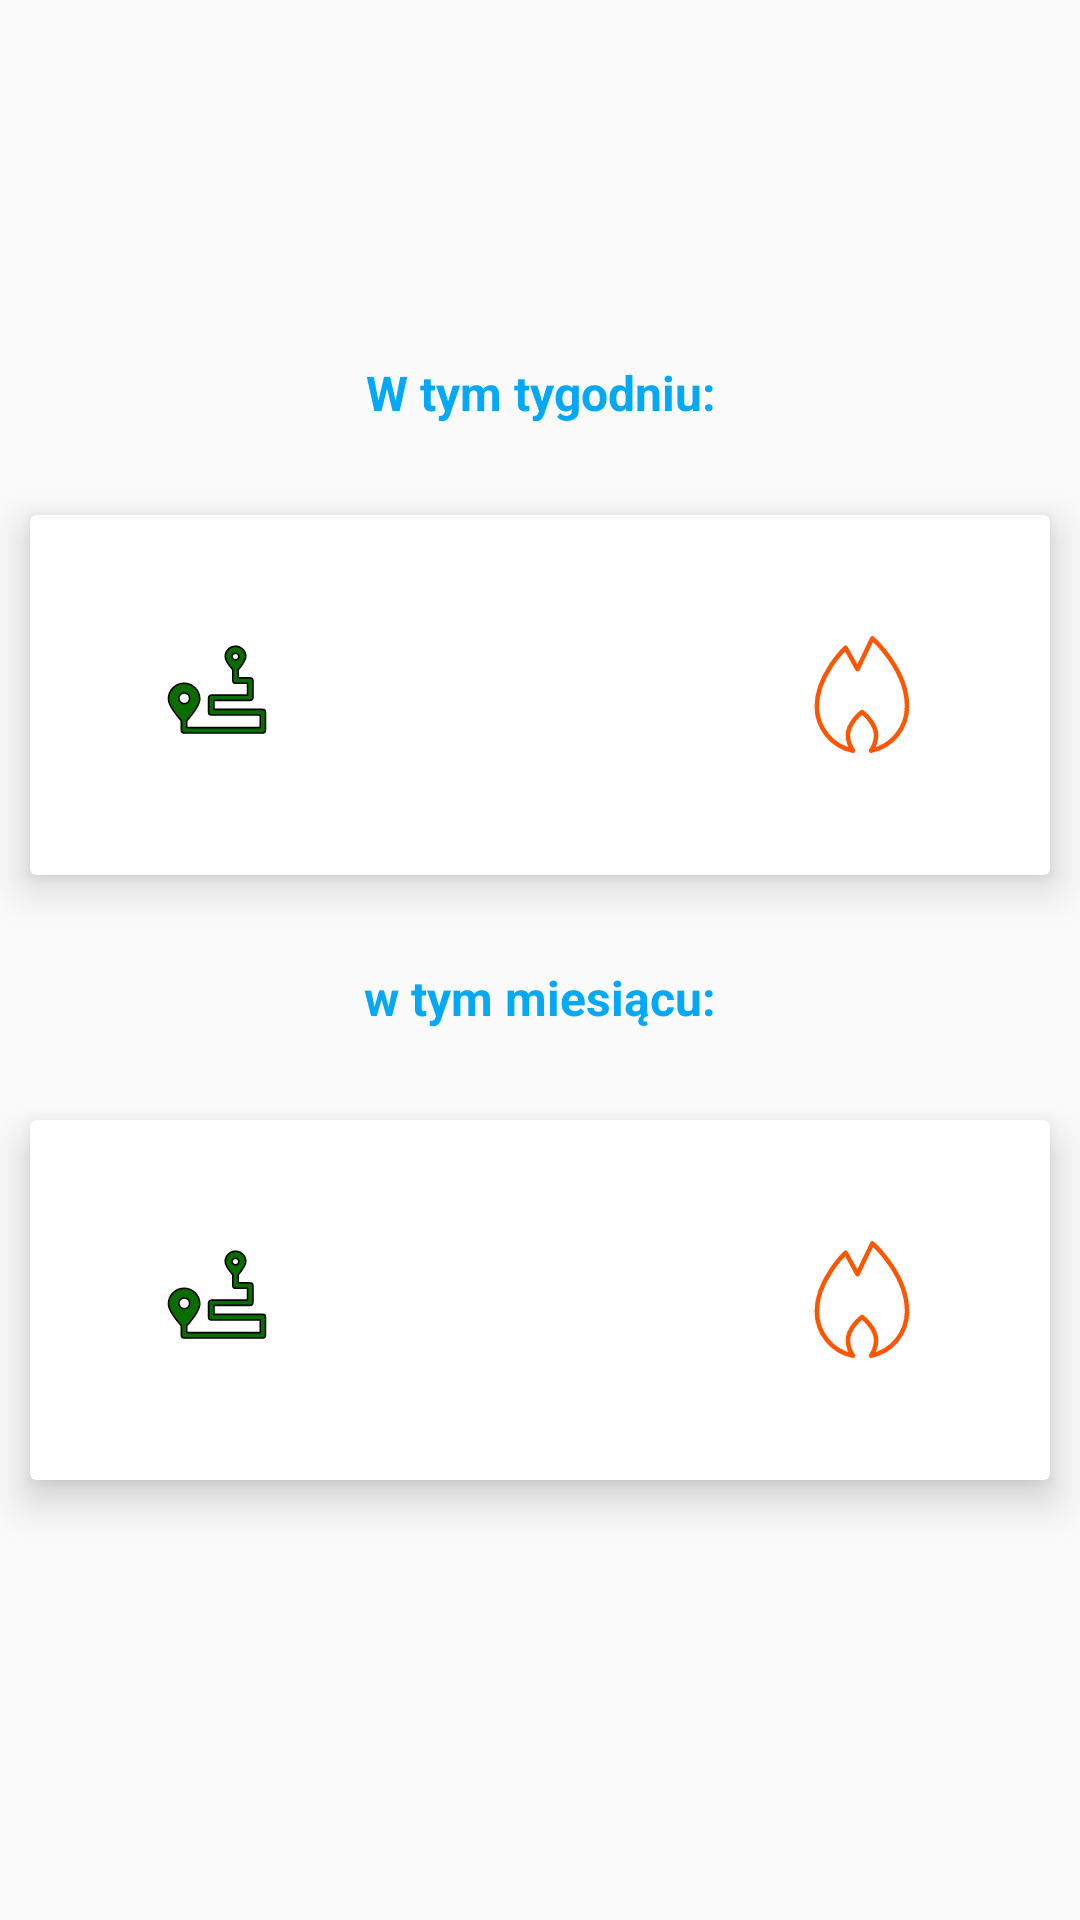

Named icons in this screenshot (1080px×1920px) and their bounding boxes, (x1, y1, x2, y2):
calories: (814, 636, 910, 753), (814, 1241, 910, 1358)
distance achievement: (167, 645, 267, 734), (167, 1250, 267, 1339)
